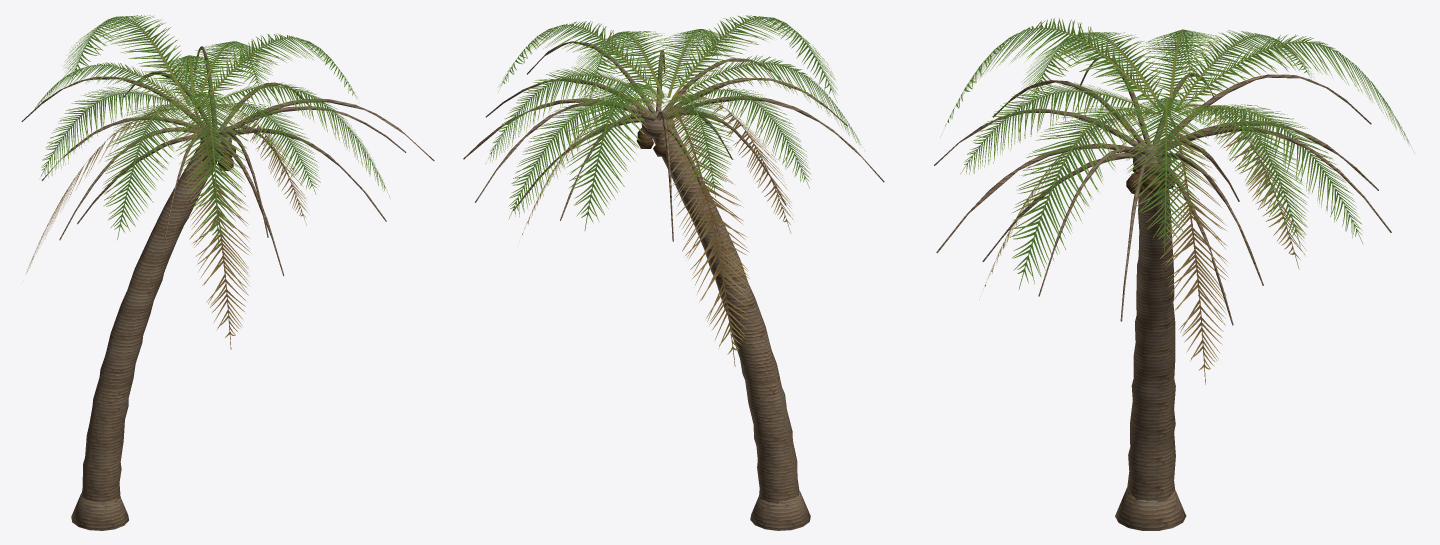
Rendered from palm_tree_b.glb.
The picture shows the model from 3 angles, left to right: view 1: azimuth 30°, elevation 25°; view 2: azimuth 150°, elevation 25°; view 3: azimuth 270°, elevation 25°; orthographic projection. The views are drawn at different scales.
Visible parts, largest first — view 1: palm_tree_b_fronds, palm_tree_b_Bark_Palm, palm_tree_b_fronds_dry; view 2: palm_tree_b_fronds, palm_tree_b_Bark_Palm, palm_tree_b_fronds_dry; view 3: palm_tree_b_fronds, palm_tree_b_Bark_Palm, palm_tree_b_fronds_dry.
Boxes of the visible parts, box(x1,y1,x2,y2) form: palm_tree_b_fronds: box(35, 15, 389, 247); palm_tree_b_Bark_Palm: box(21, 46, 434, 530); palm_tree_b_fronds_dry: box(26, 103, 308, 349); palm_tree_b_fronds: box(485, 15, 864, 230); palm_tree_b_Bark_Palm: box(463, 41, 884, 530); palm_tree_b_fronds_dry: box(522, 94, 793, 366); palm_tree_b_fronds: box(940, 18, 1414, 289); palm_tree_b_Bark_Palm: box(934, 56, 1391, 530); palm_tree_b_fronds_dry: box(984, 103, 1306, 384).
Size of the model in its own units: 7.89 by 8.96 by 7.88.
Materials: 4 (4 with a texture image).
